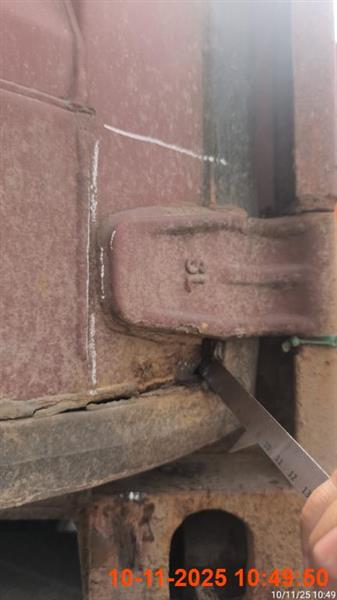rust: (299, 468, 336, 583)
